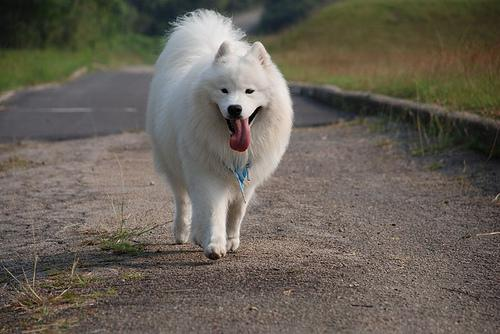dog-samoyed: (203, 39, 273, 149)
